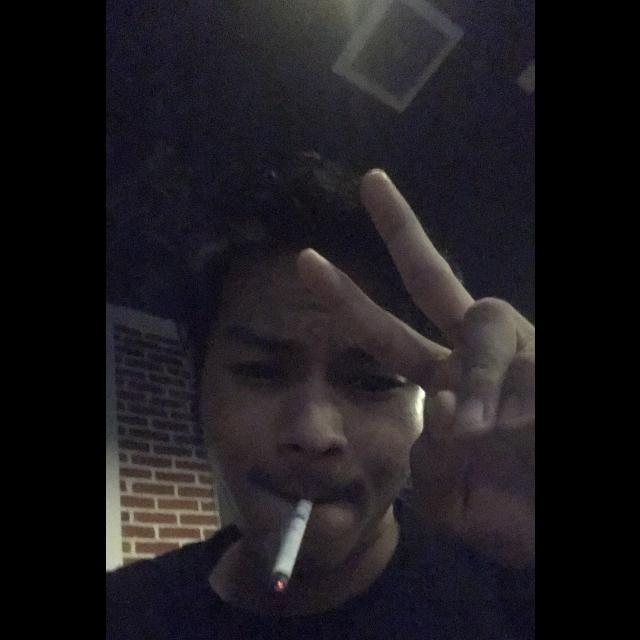rokok: (262, 488, 320, 596)
